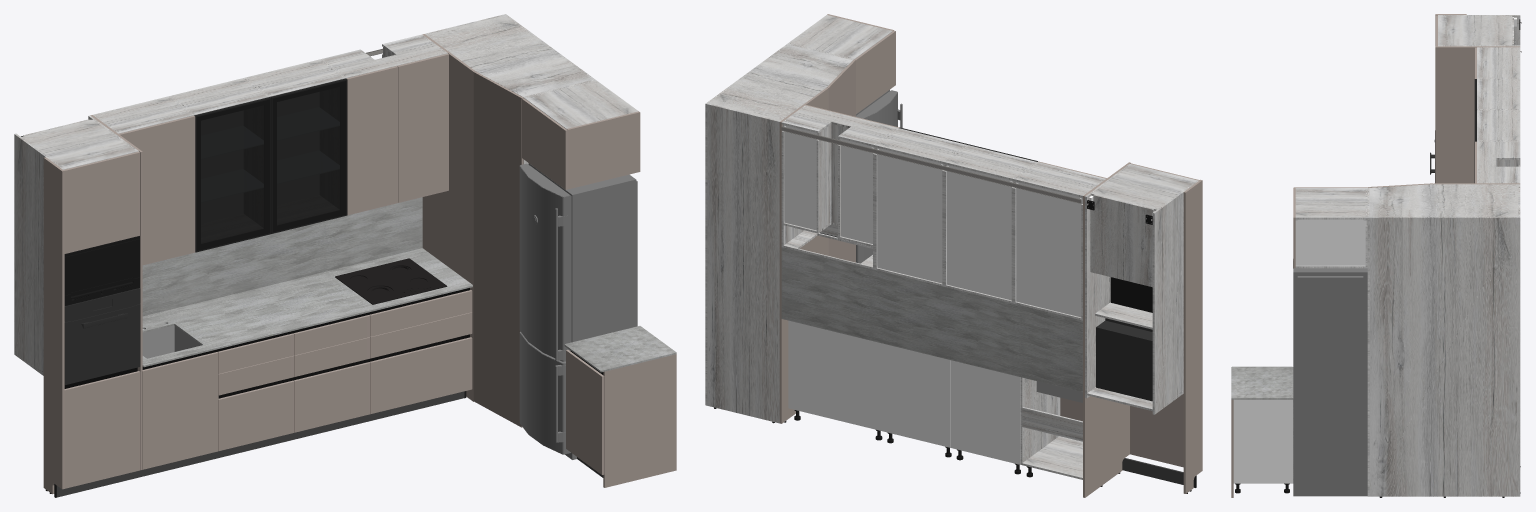
The picture shows the model from 3 angles, left to right: view 1: azimuth 30°, elevation 25°; view 2: azimuth 150°, elevation 25°; view 3: azimuth 270°, elevation 25°; orthographic projection. The views are drawn at different scales.
Parts seen in each view (by area): view 1: node_0531, node_0076, node_0137, node_0138, node_0093, node_0101, node_0042, node_0078, node_0024, node_0028, node_0074, node_0025 (+31 smaller); view 2: node_0077, node_0137, node_0068, node_0081, node_0094, node_0086, node_0035, node_0056, node_0127, node_0025, node_0075, node_0036 (+30 smaller); view 3: node_0072, node_0531, node_0026, node_0039, node_0075, node_0135, node_0033, node_0133, node_0044, node_0109, node_0096, node_0088 (+2 smaller).
Part boxes in pixels (bbox=[...]): node_0531: bbox=[519, 163, 637, 459]; node_0076: bbox=[473, 71, 523, 427]; node_0137: bbox=[142, 197, 422, 316]; node_0138: bbox=[142, 248, 472, 367]; node_0093: bbox=[196, 99, 270, 250]; node_0101: bbox=[272, 81, 346, 232]; node_0042: bbox=[603, 354, 676, 487]; node_0078: bbox=[119, 115, 195, 265]; node_0024: bbox=[142, 352, 218, 469]; node_0028: bbox=[64, 371, 140, 488]; node_0074: bbox=[422, 34, 475, 401]; node_0025: bbox=[43, 157, 64, 494]; node_0077: bbox=[707, 103, 780, 423]; node_0137: bbox=[781, 247, 1082, 391]; node_0068: bbox=[788, 320, 881, 430]; node_0081: bbox=[1016, 181, 1082, 317]; node_0094: bbox=[877, 148, 943, 283]; node_0086: bbox=[946, 164, 1013, 300]; node_0035: bbox=[1152, 180, 1198, 414]; node_0056: bbox=[951, 360, 1020, 464]; node_0127: bbox=[881, 343, 950, 447]; node_0025: bbox=[1183, 179, 1202, 493]; node_0075: bbox=[708, 44, 852, 120]; node_0036: bbox=[1090, 194, 1154, 287]; node_0072: bbox=[1369, 217, 1520, 496]; node_0531: bbox=[1293, 259, 1367, 496]; node_0026: bbox=[1435, 46, 1520, 183]; node_0039: bbox=[1233, 399, 1292, 483]; node_0075: bbox=[1369, 184, 1518, 216]; node_0135: bbox=[1295, 219, 1366, 265]; node_0033: bbox=[1438, 15, 1512, 45]; node_0133: bbox=[1295, 188, 1365, 219]; node_0044: bbox=[1231, 366, 1293, 399]; node_0109: bbox=[1477, 142, 1520, 182]; node_0096: bbox=[1477, 110, 1520, 140]; node_0088: bbox=[1477, 79, 1520, 109].
Size of the model in its own units: 3.9 by 2.5 by 2.35.
Materials: 36 (5 with a texture image).
